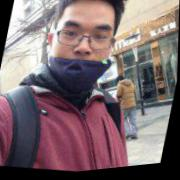WRONG: (44, 12, 119, 102)
